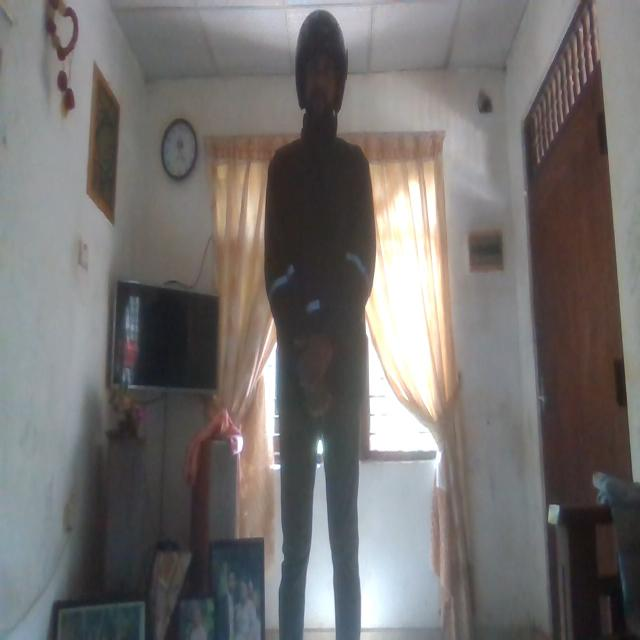Helmet_Wearer: (287, 3, 351, 132)
Jacket_Wearer: (264, 130, 381, 442)
Person: (259, 13, 377, 640)
